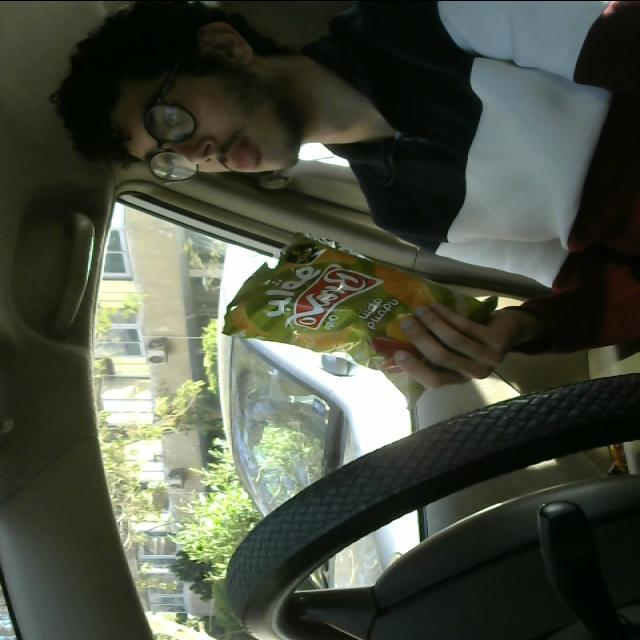eating: (218, 230, 506, 408)
